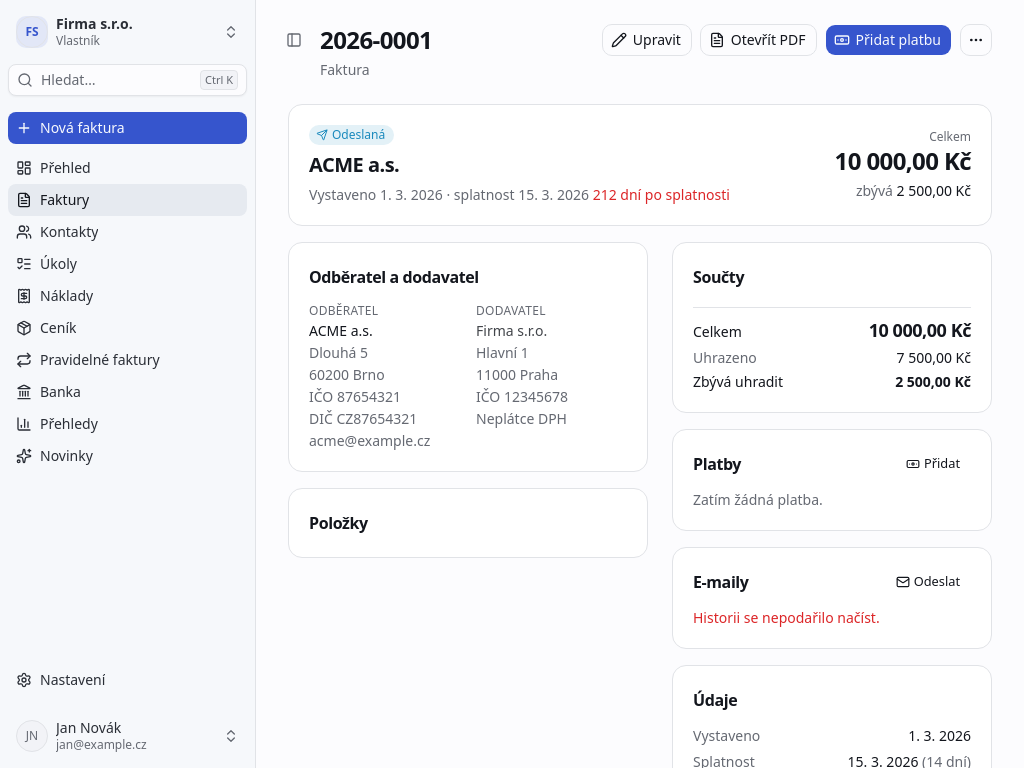
Test case: detail faktury — platba › předvyplní zbývající částku a po zaplacení zavře dialog
The image size is (1024, 768).
Check: the heading "2026-0001" is shown, box x1=320 y1=23 x2=432 y2=56
Click the button "Přidat platbu" at (888, 40), box x1=825 y1=24 x2=952 y2=56
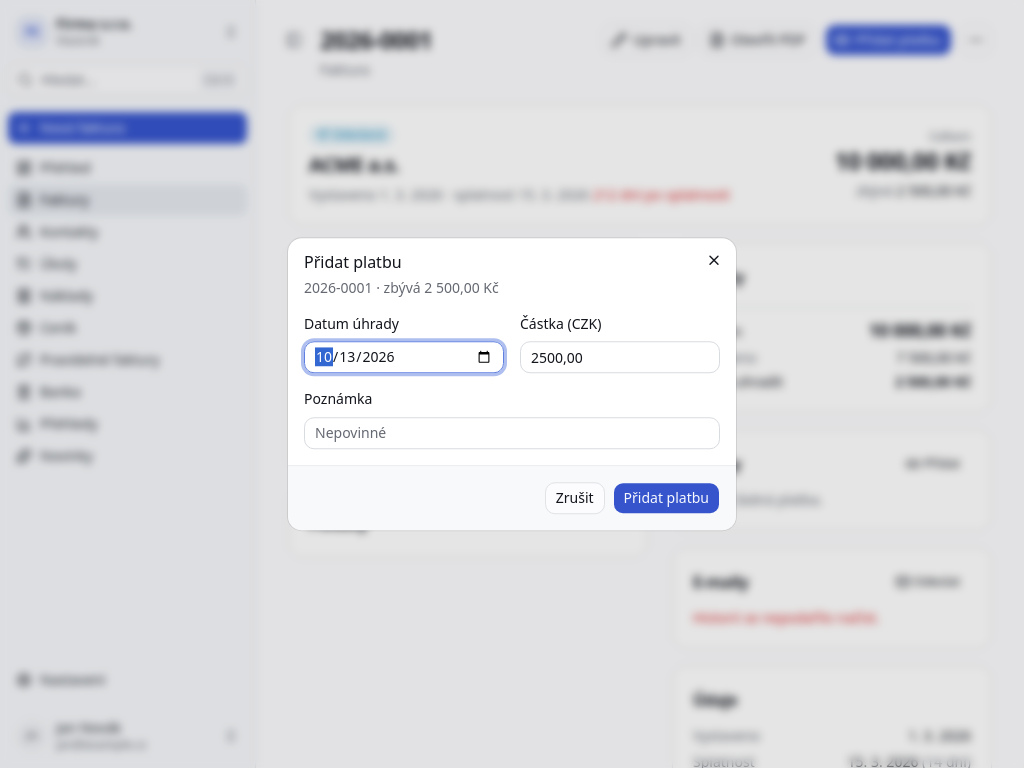
Check: the field labelled "Částka (CZK)" holds "2500,00"
Clear the field labelled "Částka (CZK)" at (620, 358), box x1=520 y1=342 x2=720 y2=374
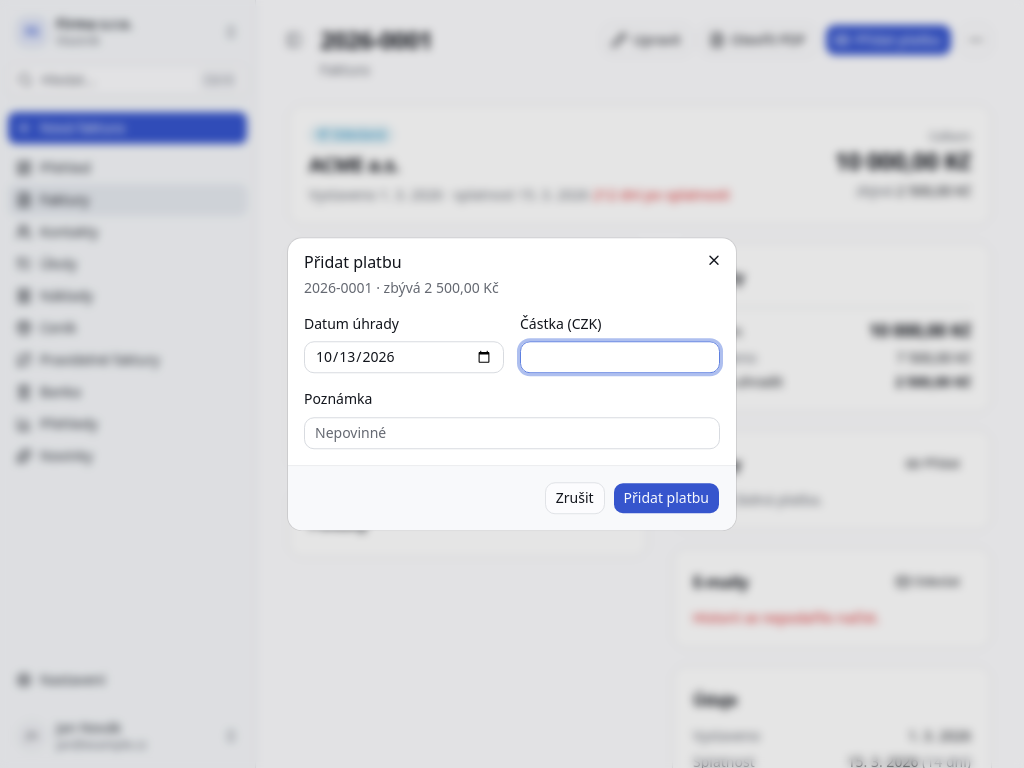
Click the button "Přidat platbu" at (666, 498), box x1=613 y1=482 x2=720 y2=514
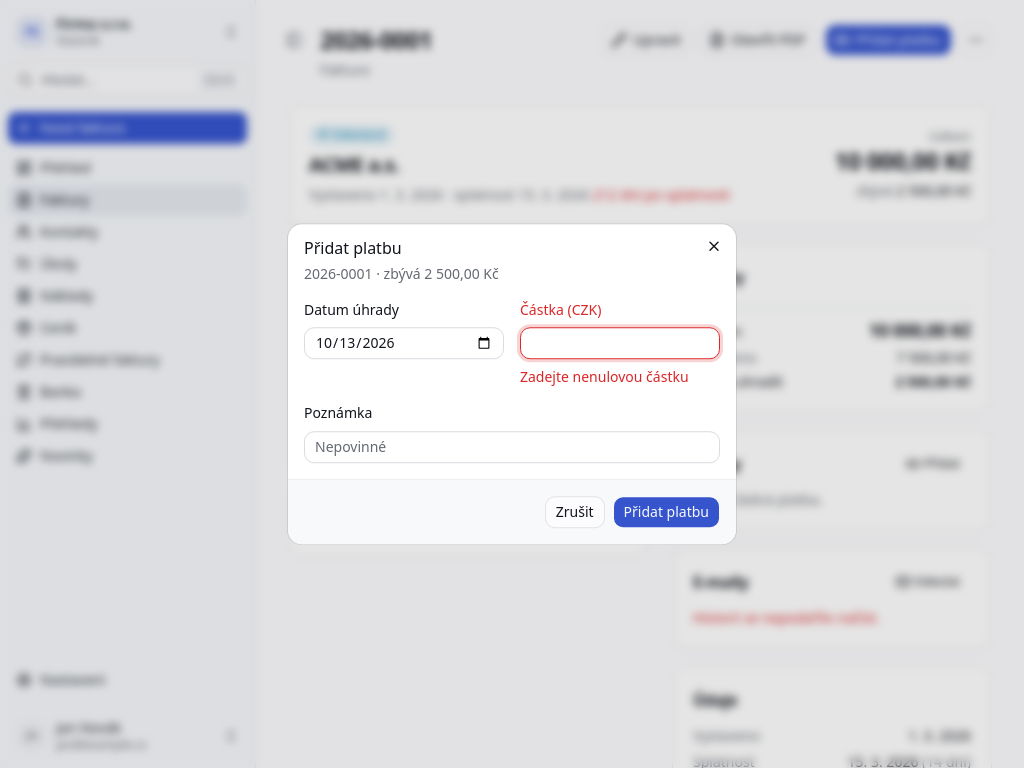
Check: the text "Zadejte nenulovou částku" is shown, box x1=520 y1=368 x2=689 y2=386
Type "2 500,00" into the field labelled "Částka (CZK)" at (620, 344), box x1=520 y1=328 x2=720 y2=360
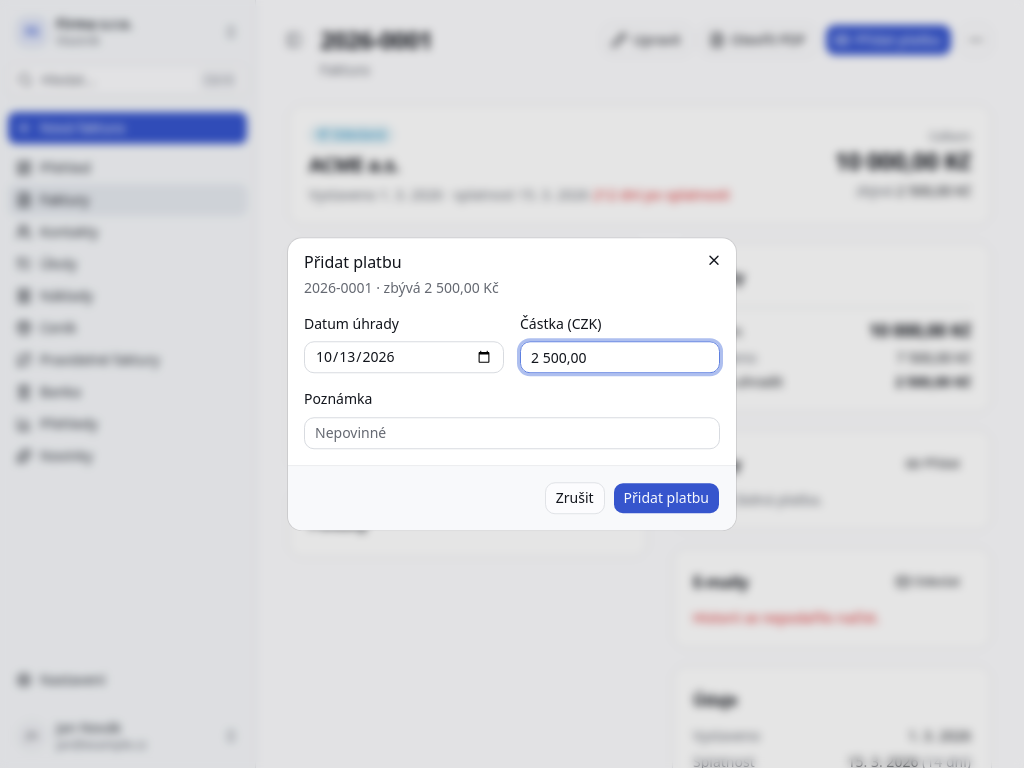
Type " hotově " into the field labelled "Poznámka" at (512, 433), box x1=304 y1=417 x2=720 y2=449
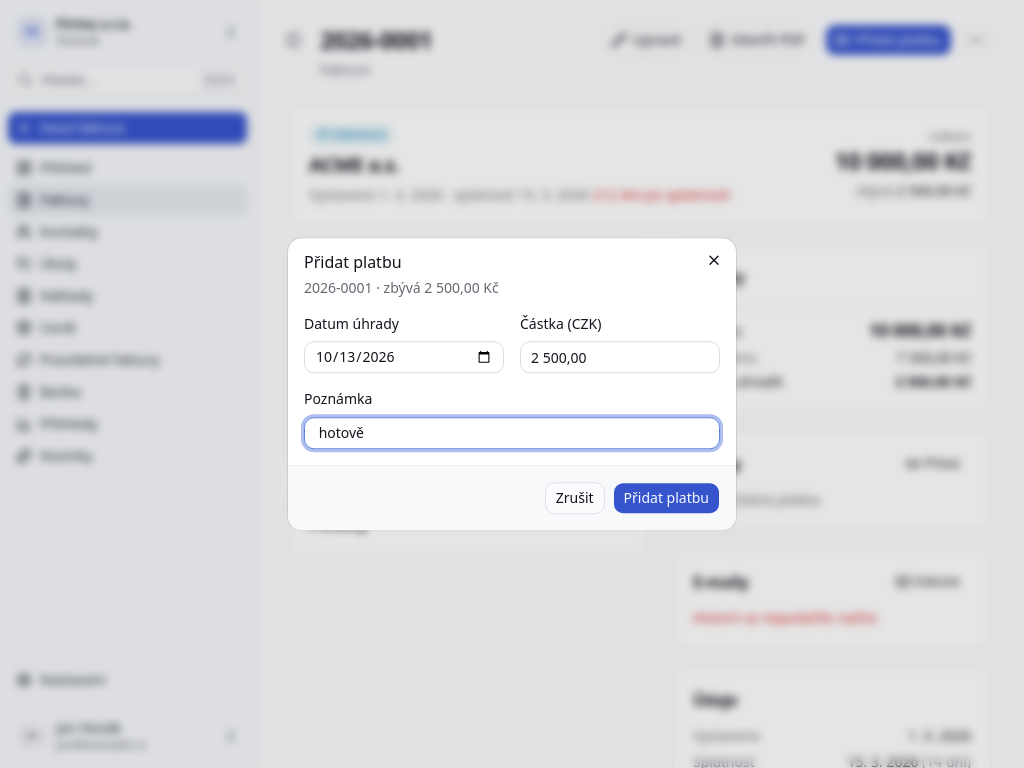
Click the button "Přidat platbu" at (666, 498), box x1=613 y1=482 x2=720 y2=514
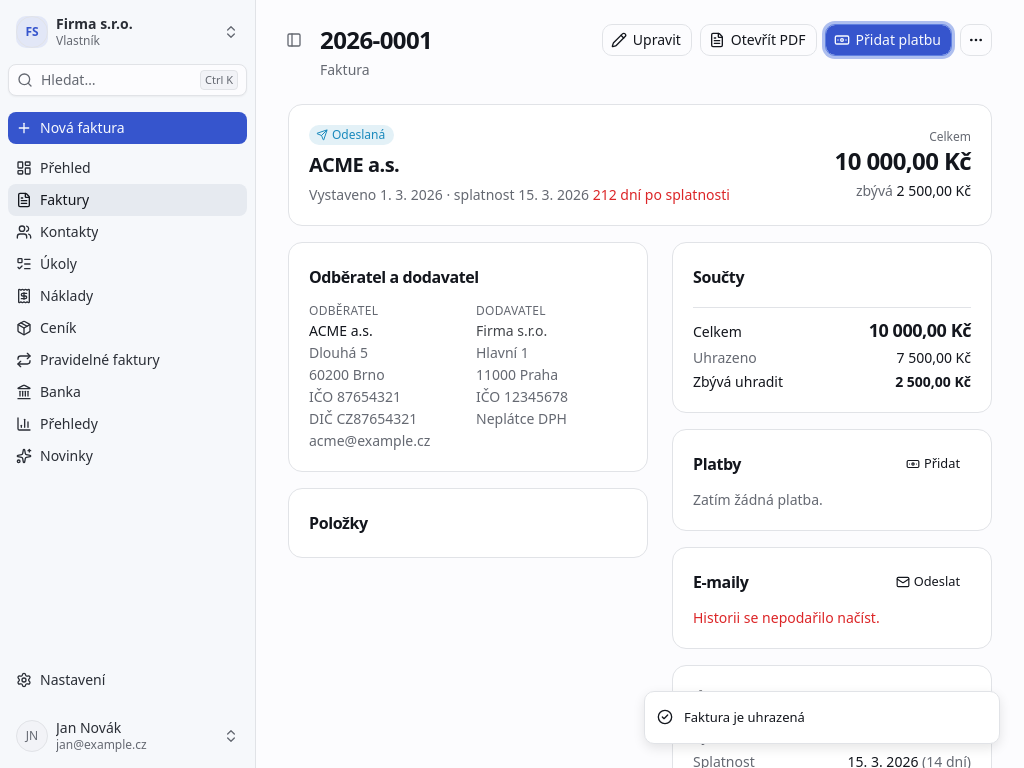
Check: the text "Faktura je uhrazená" is shown, box x1=684 y1=708 x2=805 y2=727
